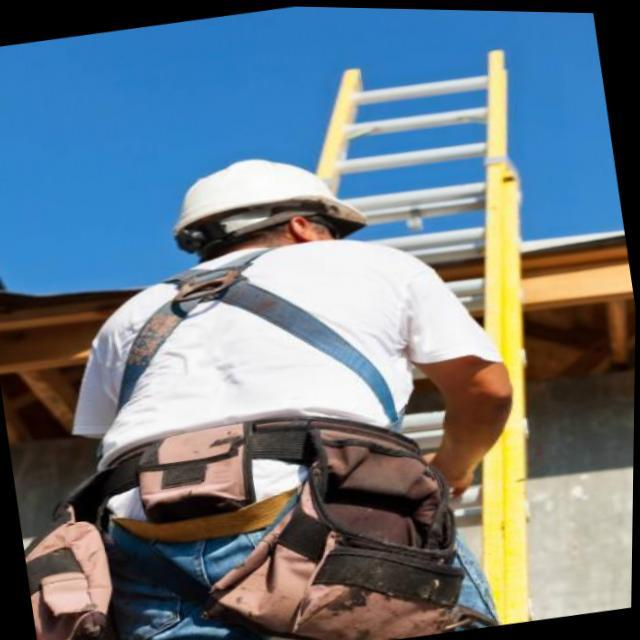belt: (44, 219, 462, 640)
